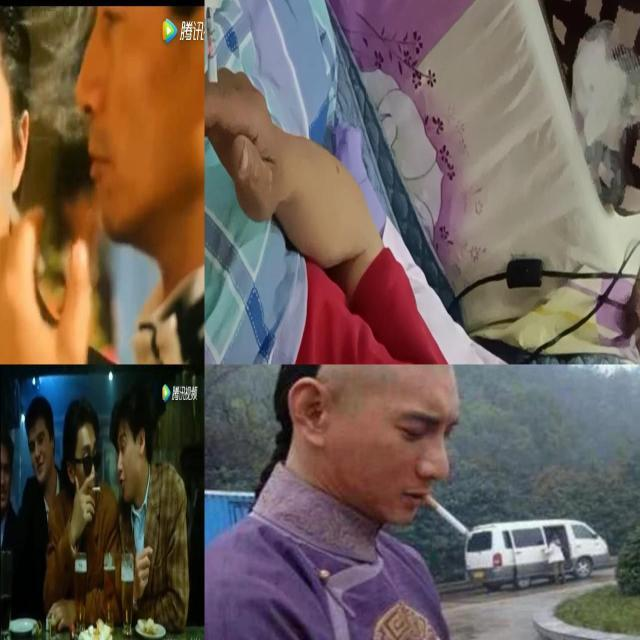smoking: (422, 492, 476, 540), (206, 7, 218, 105), (92, 484, 100, 494)
